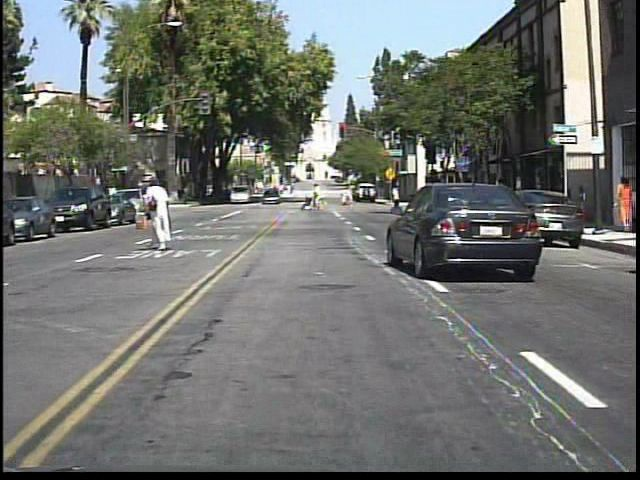person: (136, 170, 180, 258), (617, 166, 637, 236), (492, 170, 512, 220), (387, 181, 404, 211), (313, 181, 326, 211)
